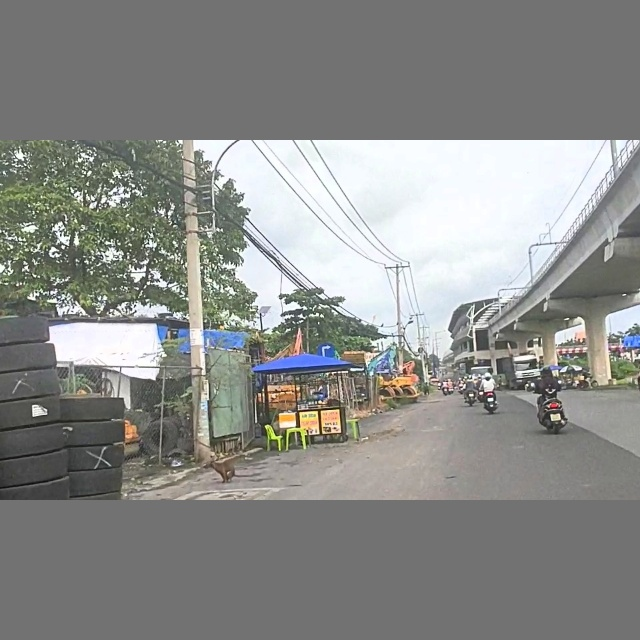R.301e: (318, 343, 334, 359)
